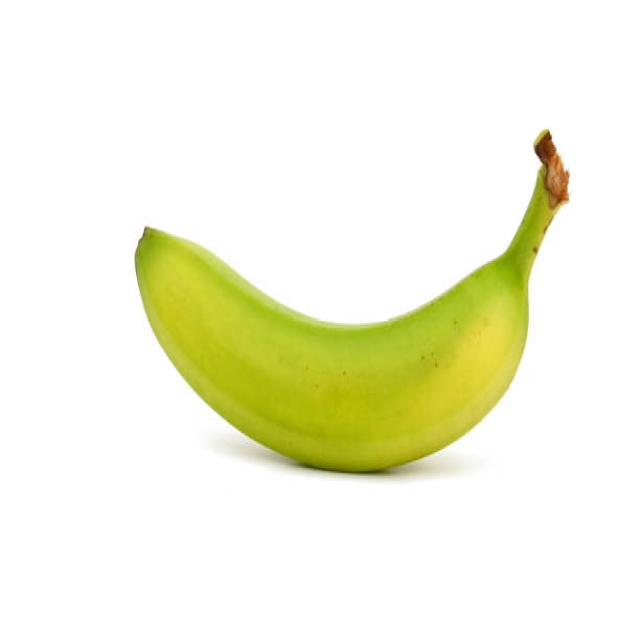banana: (134, 129, 572, 472)
